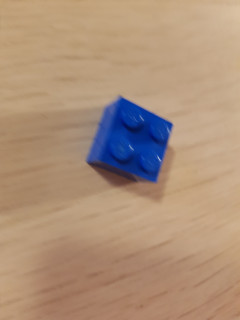2x2 blue: (86, 94, 174, 183)
